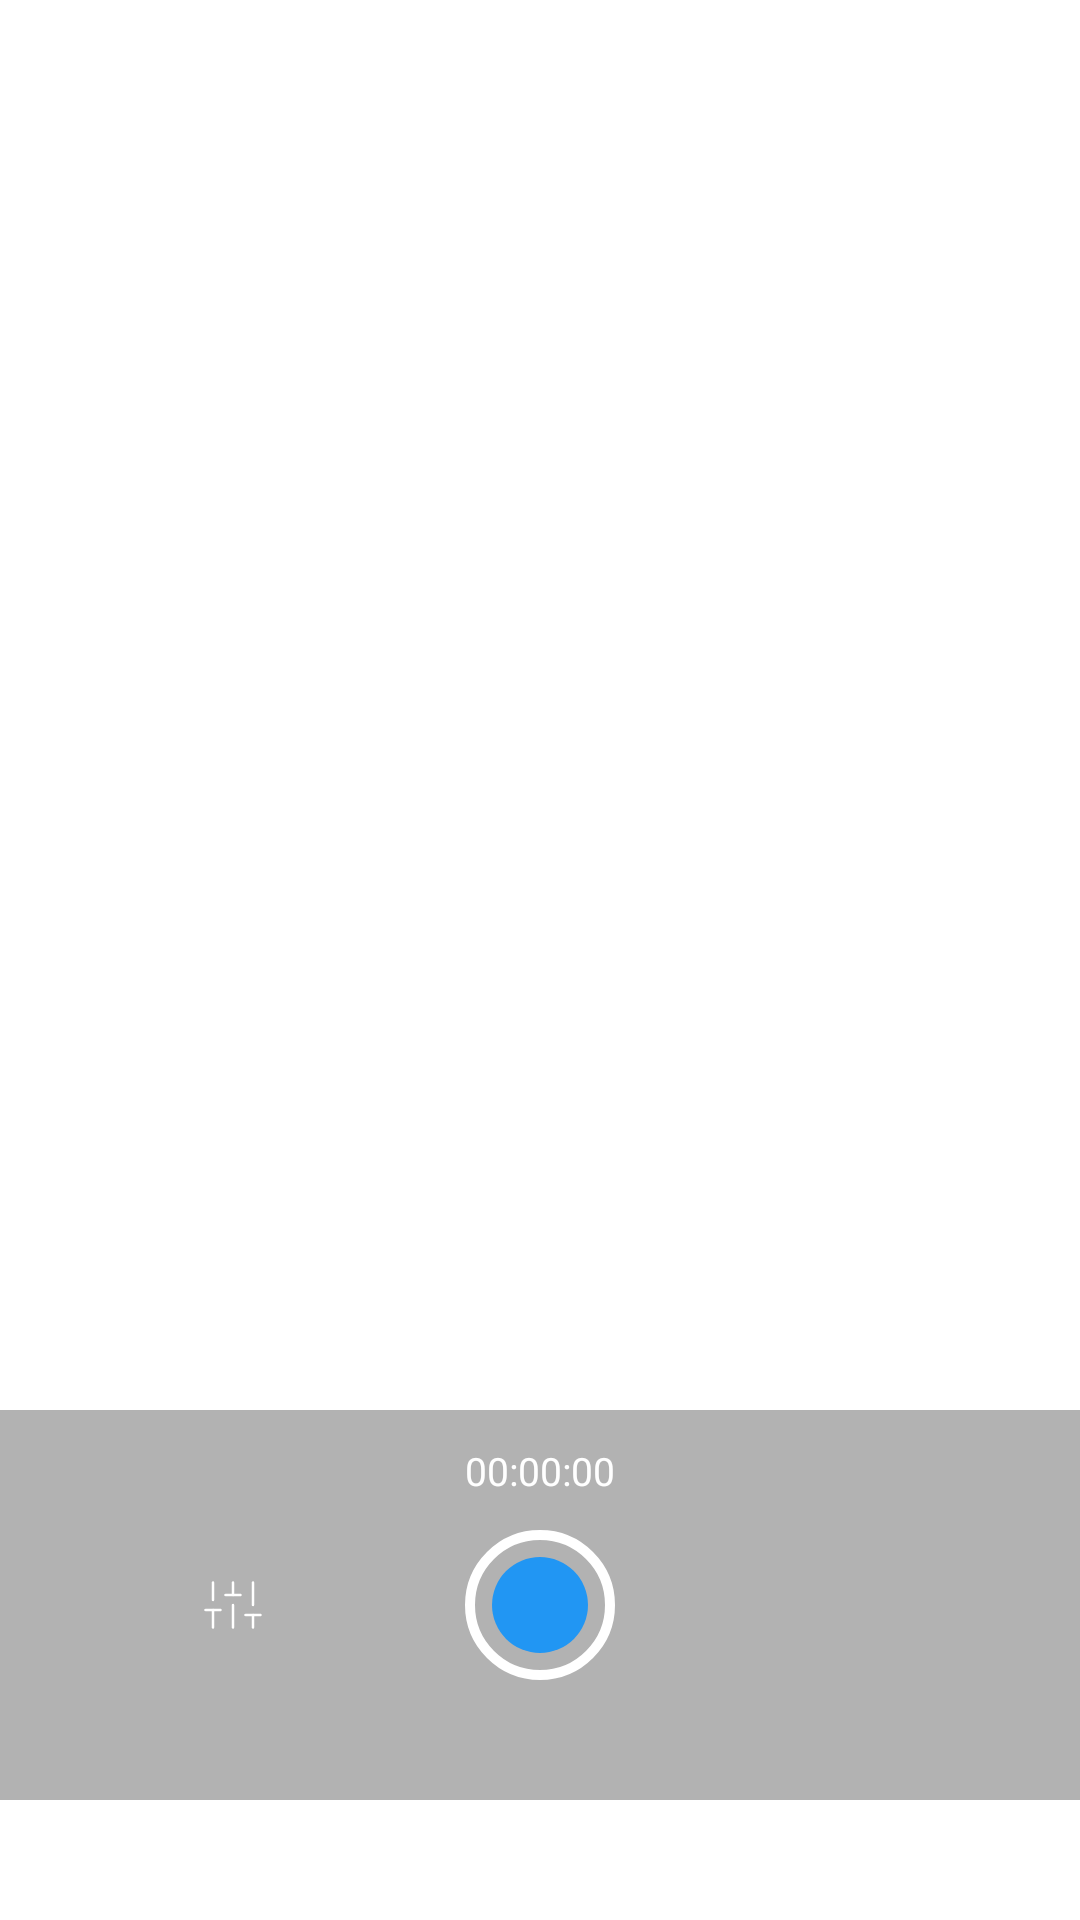

Where icons sit on this 1080px x 1920px app screen, as (x1, y1, x2, y2):
sliders: (204, 1581, 262, 1629)
